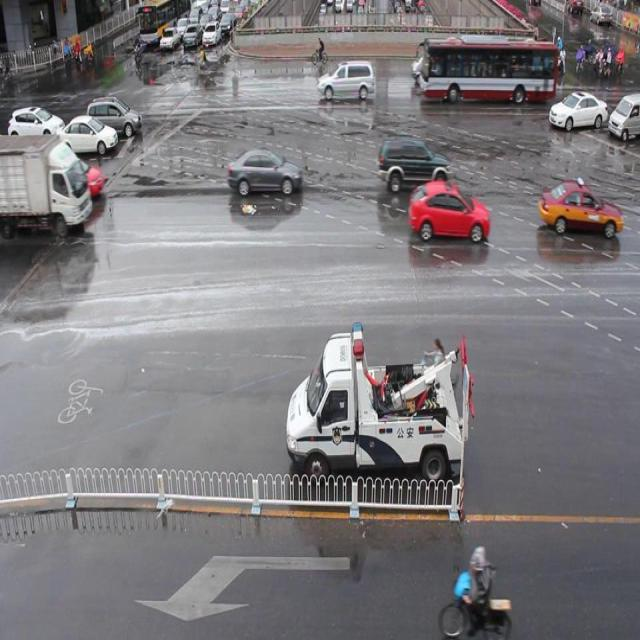car: (537, 178, 620, 238), (408, 180, 488, 242), (376, 136, 448, 197), (228, 146, 300, 200), (547, 89, 606, 130)
truck: (315, 59, 375, 103), (409, 51, 458, 92)
van: (420, 38, 554, 107)
